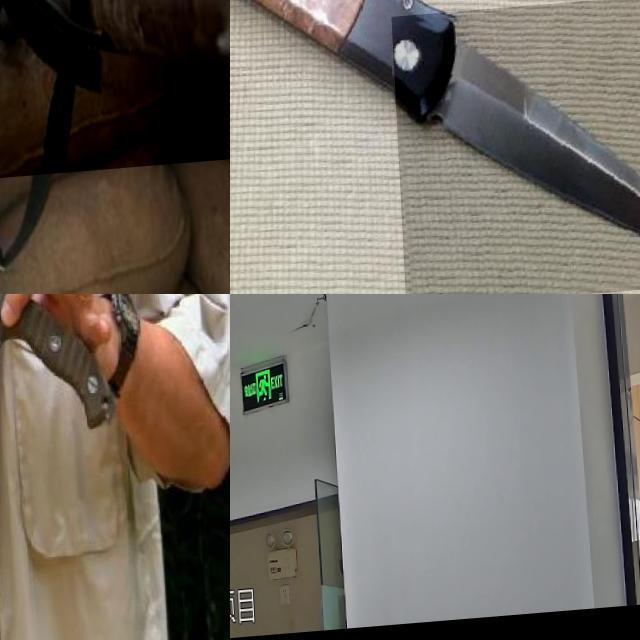-: (388, 1, 640, 294), (0, 294, 115, 458), (0, 294, 75, 479)
gun-knife-thesis - v11 Yolov5 augmented: (0, 0, 230, 246), (230, 294, 273, 439)
